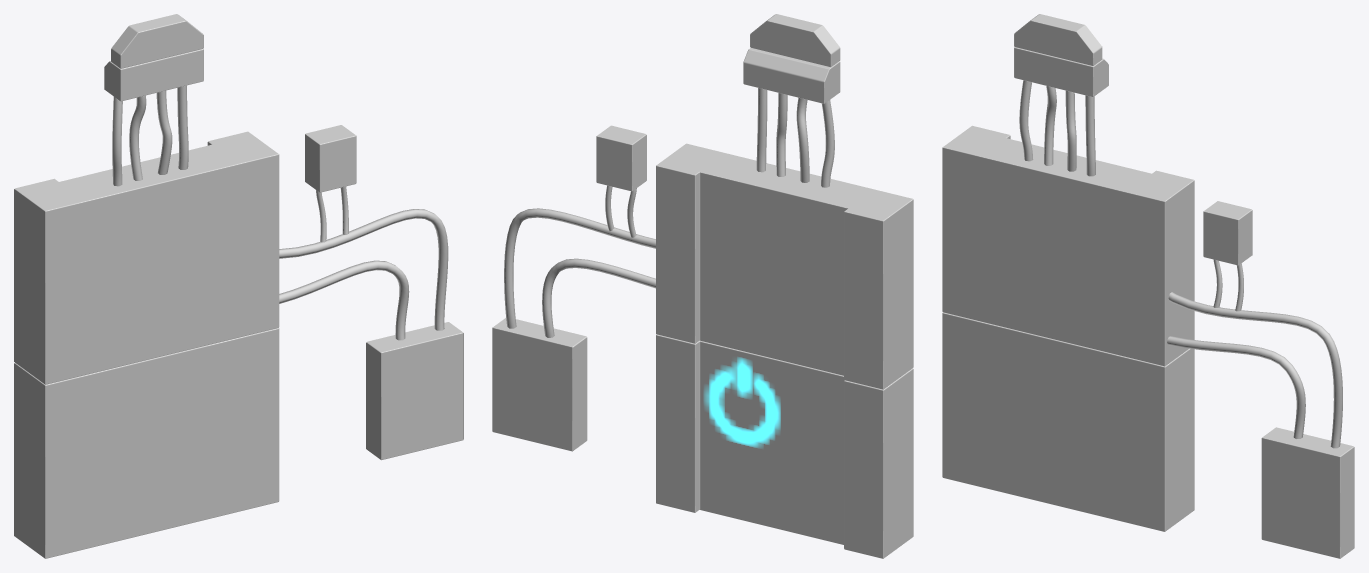
Rendered from SM_3DT_Power_Box_01.fbx.
3 renders of one model, left to right at view 1: azimuth 30°, elevation 25°; view 2: azimuth 150°, elevation 25°; view 3: azimuth 330°, elevation 25°, orthographic. The views are drawn at different scales.
Visible parts, largest first — view 1: SM_3DT_Power_Box_01; view 2: SM_3DT_Power_Box_01; view 3: SM_3DT_Power_Box_01.
Part boxes in pixels (left/top/right/bottom): SM_3DT_Power_Box_01: left=14, top=14, right=463, bottom=558; SM_3DT_Power_Box_01: left=492, top=14, right=913, bottom=558; SM_3DT_Power_Box_01: left=942, top=14, right=1354, bottom=558.
Bounding box in the file's own units: 49.84 × 57.29 × 6.48.
